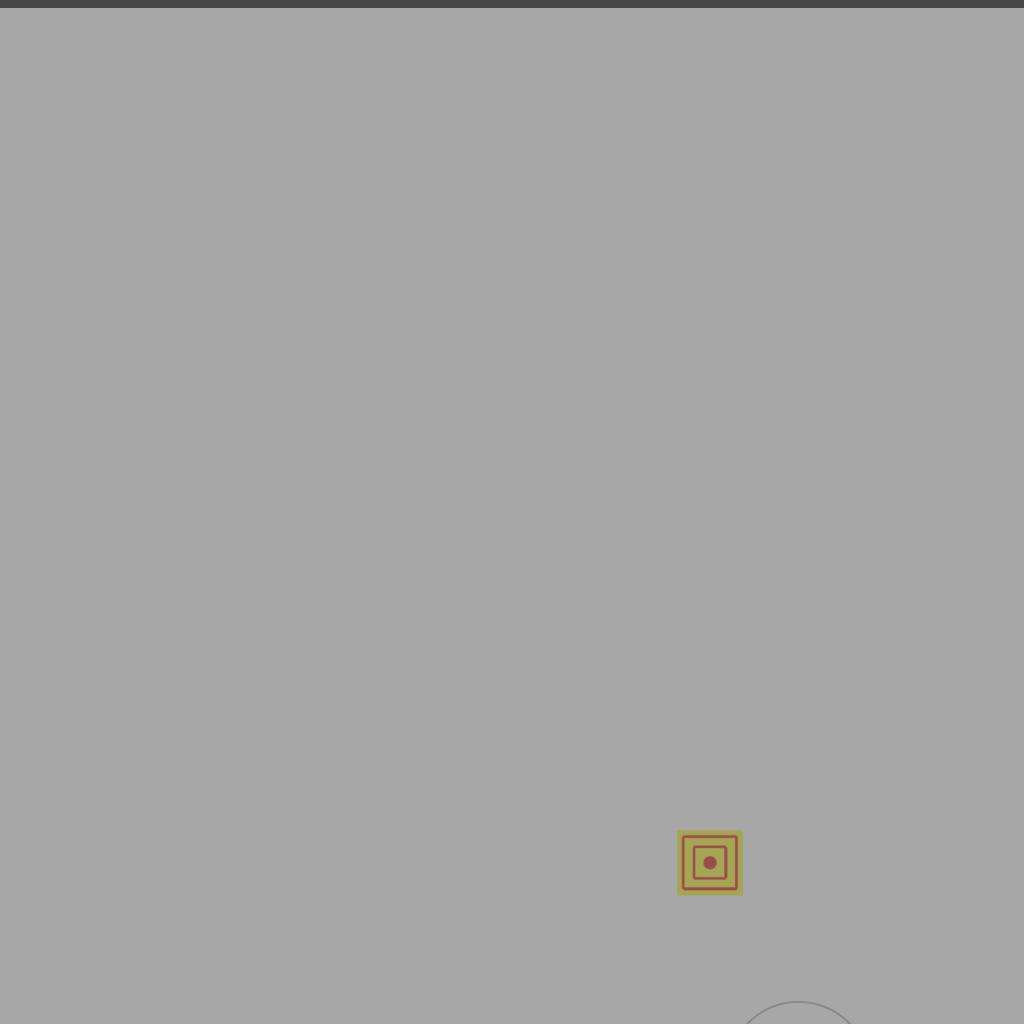NAM-Nichtautomatischer_Melder: (677, 830, 743, 896)
